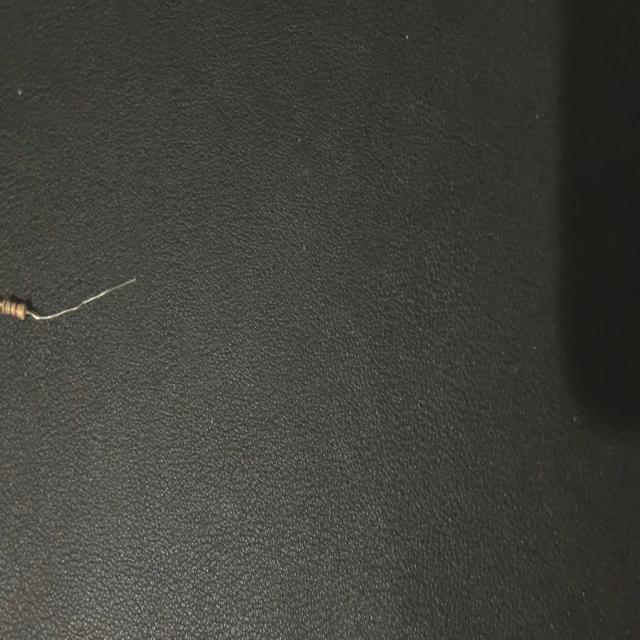resistor: (0, 277, 140, 323)
